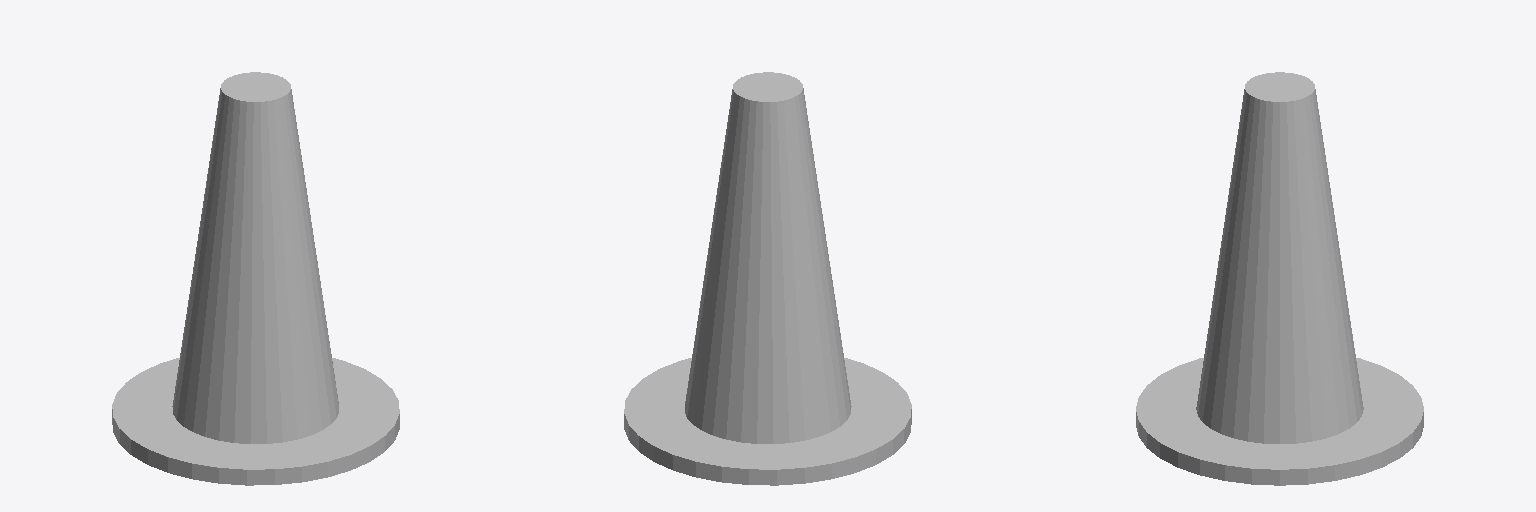
File: lwpltrfccon8.obj
3 views of the same model, side by side, from view 1: azimuth 30°, elevation 25°; view 2: azimuth 150°, elevation 25°; view 3: azimuth 270°, elevation 25° (orthographic).
Visible parts, largest first — view 1: Cylinder.007_Cylinder.003; view 2: Cylinder.007_Cylinder.003; view 3: Cylinder.007_Cylinder.003.
Part boxes in pixels (bbox=[...]): Cylinder.007_Cylinder.003: bbox=[112, 72, 399, 485]; Cylinder.007_Cylinder.003: bbox=[624, 72, 911, 485]; Cylinder.007_Cylinder.003: bbox=[1136, 72, 1423, 485].
Size of the model in its own units: 2.21 by 2.85 by 2.21.